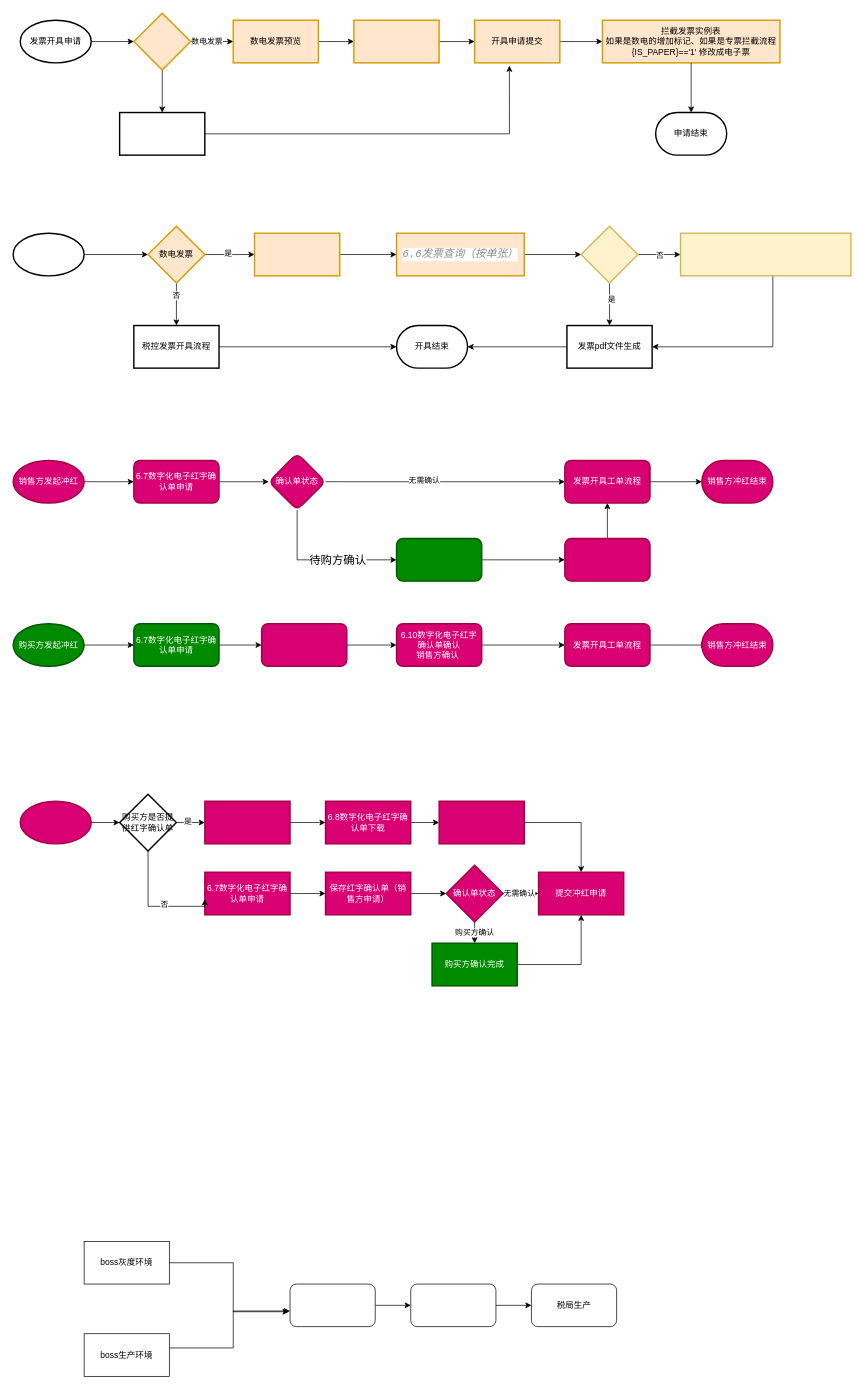
The diagram is 863 pixels wide and 1389 high, and some of its shapes have lost their labels. Each missing label, with the centre of its shape:
6.1 数字化电子发票开具（同步）: [765,254]
6.10数字化电子红字确认单确认: [481,822]
6.7数字化电子红字确认单下载: [304,645]
6.8数字化电子红字确认单下载 已确认: [607,559]
保存红字确认单（购买方申请）: [247,822]
发票合并拆分规则: [396,41]
发票开具工单: [48,254]
增加数电发票开具流程: [296,254]
是否开具: [609,254]
根据销售方方判断: [162,41]
税控发票预览: [162,133]
等待购方确认完成: [438,559]
航信内网F5: [332,1305]
航信出口ip: [453,1305]
销售方发起 数电发票冲红: [55,822]
